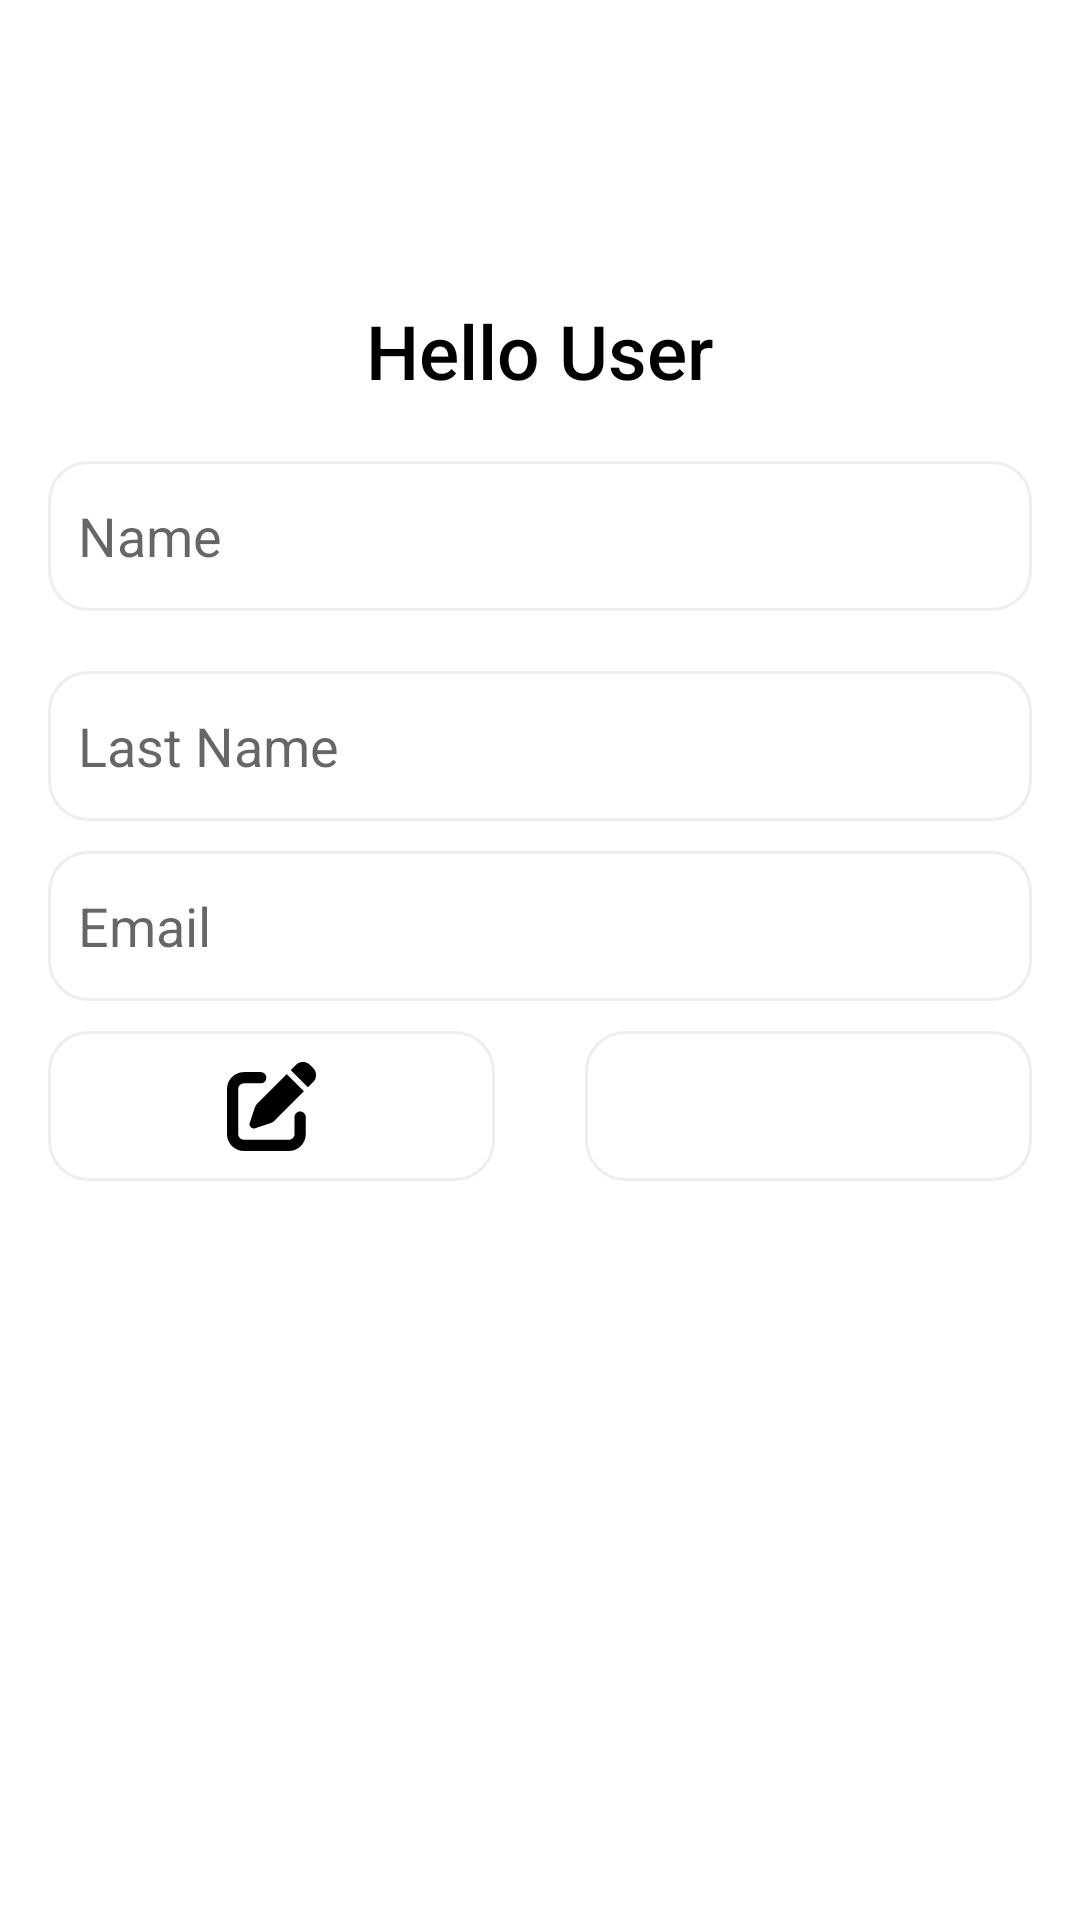

Locate icon controls on the screen. Image size 1080x1920, boxes as (x1, y1, x2, y2).
edit: (227, 1062, 316, 1151)
